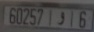0: (16, 8, 22, 25)
2: (24, 8, 29, 24)
5: (30, 7, 37, 25)
6: (78, 10, 88, 28), (10, 7, 15, 24)
7: (36, 8, 45, 24)
waw: (57, 10, 65, 27)
